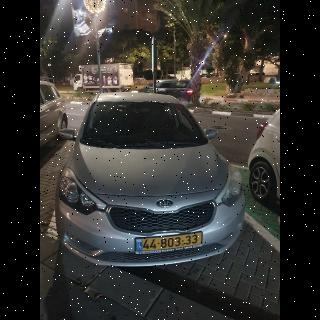LicensePlate: (141, 232, 203, 251)
